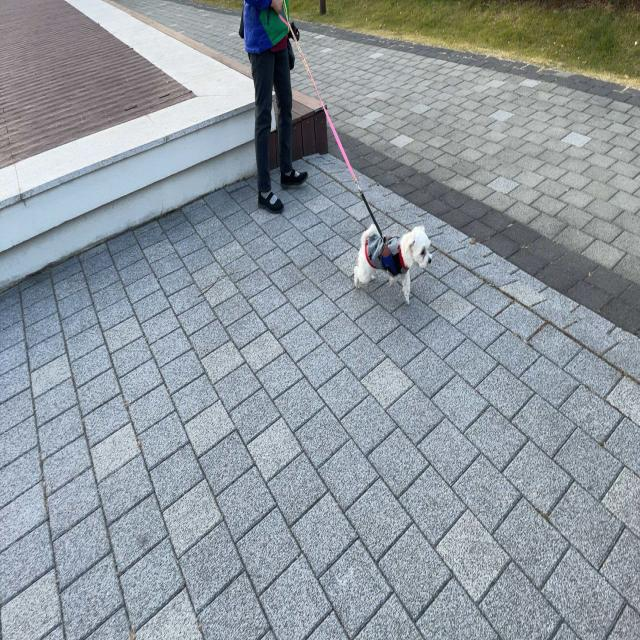Leashed_Dog: (272, 0, 432, 306)
